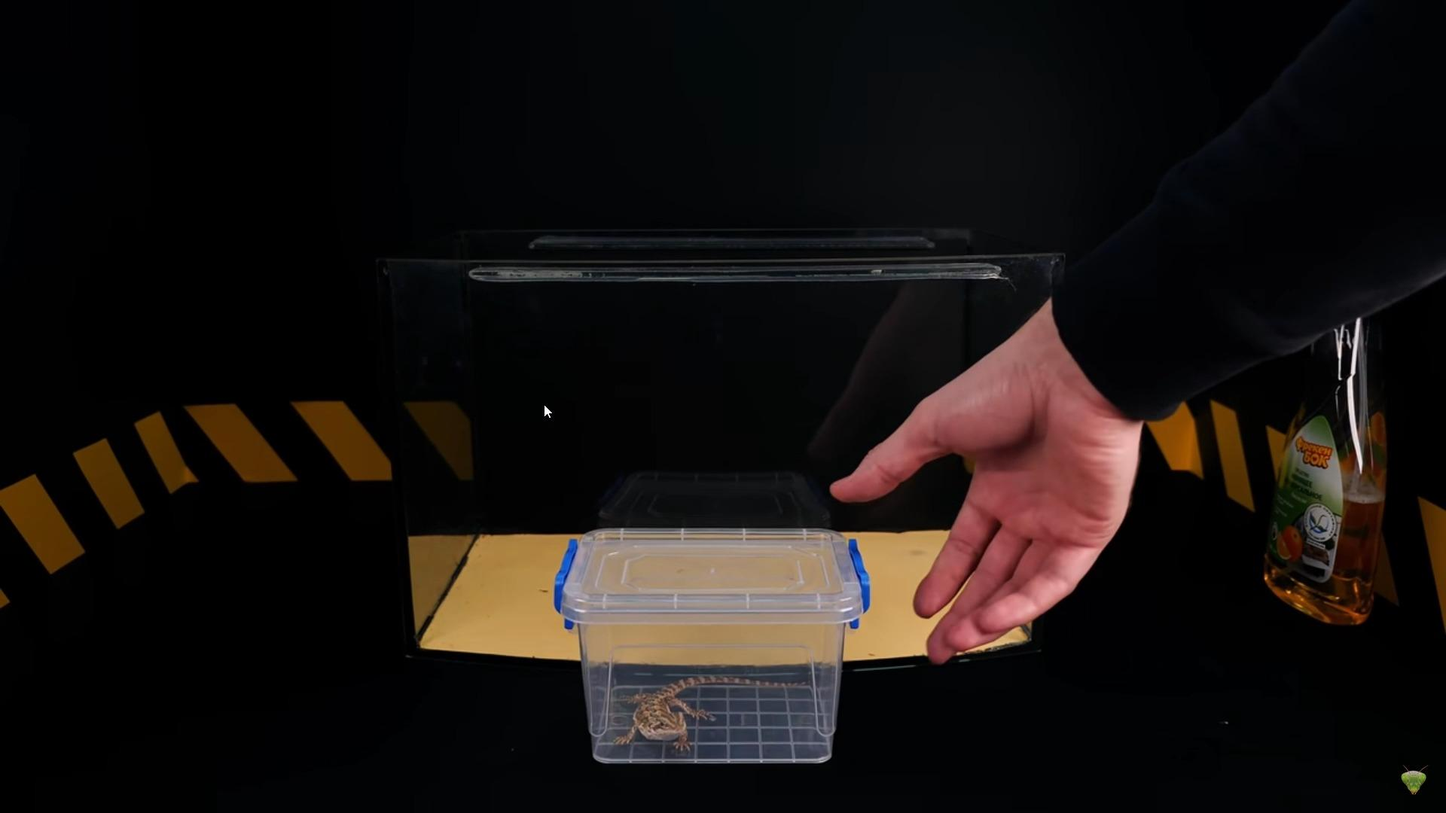lizard: (615, 670, 818, 754)
